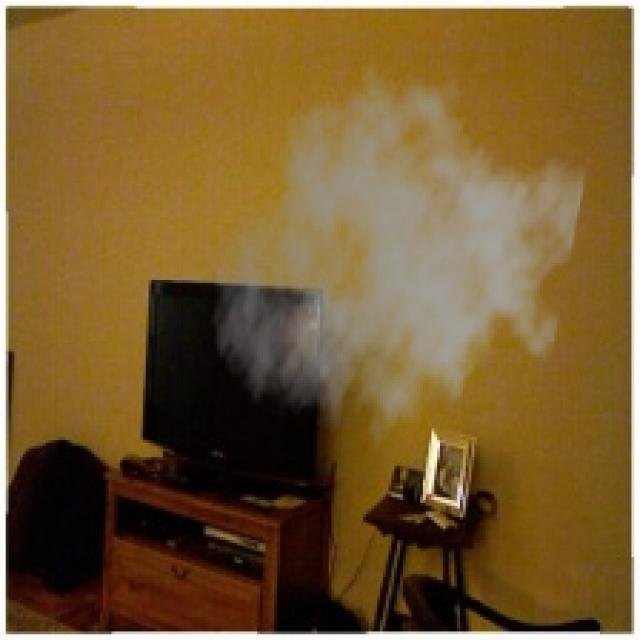Smoke: (208, 57, 588, 469)
